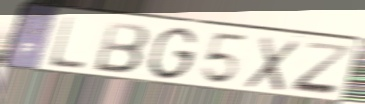5: (197, 32, 252, 86)
B: (92, 19, 152, 76)
G: (145, 25, 200, 82)
L: (47, 14, 87, 72)
X: (241, 34, 303, 94)
Z: (289, 40, 356, 99)
